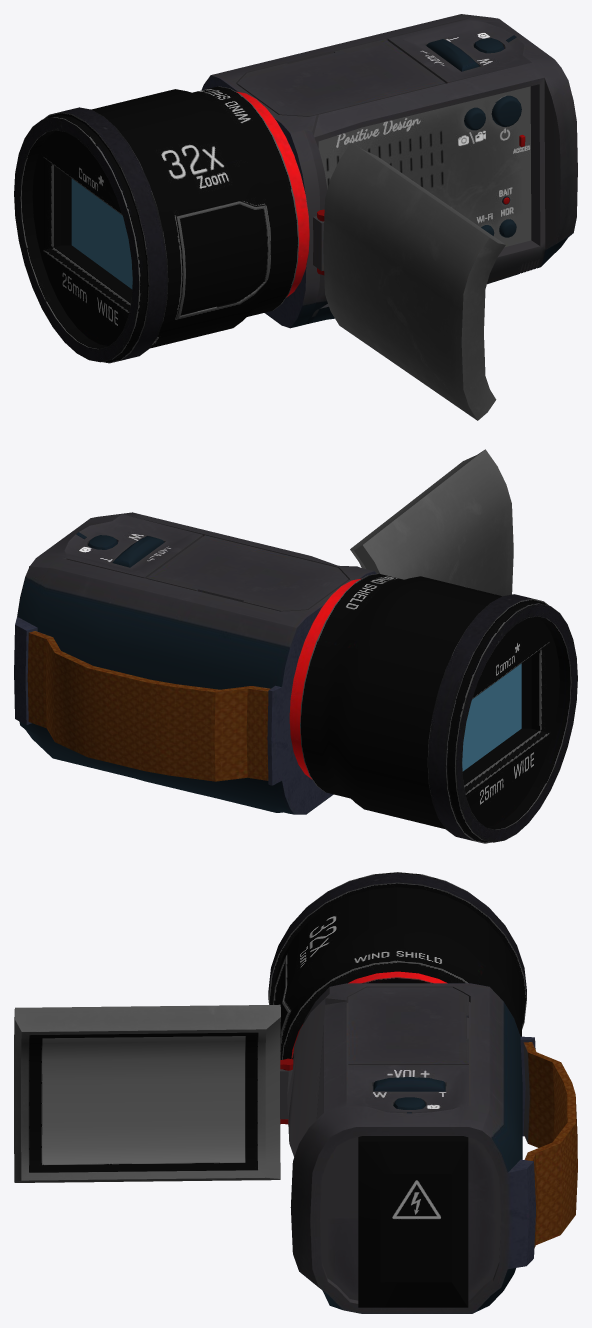
The model's file is camera.fbx.
3 views of the same model, one above another, from view 1: azimuth 30°, elevation 25°; view 2: azimuth 150°, elevation 25°; view 3: azimuth 270°, elevation 25° (orthographic). The views are drawn at different scales.
Visible parts, largest first — view 1: Circle, Circle.003, Circle.001, Circle.006, Circle.002; view 2: Circle.003, Circle, Circle.001, Circle.006; view 3: Circle.003, Circle.001, Circle, Circle.005.
Part boxes in pixels (x1=…): Circle: x1=14, y1=86, x2=309, y2=363; Circle.003: x1=201, y1=14, x2=577, y2=328; Circle.001: x1=317, y1=142, x2=505, y2=420; Circle.006: x1=71, y1=178, x2=132, y2=289; Circle.002: x1=464, y1=95, x2=525, y2=204; Circle.003: x1=14, y1=512, x2=376, y2=814; Circle: x1=289, y1=573, x2=577, y2=843; Circle.001: x1=350, y1=449, x2=513, y2=596; Circle.006: x1=462, y1=663, x2=521, y2=771; Circle.003: x1=280, y1=983, x2=577, y2=1313; Circle.001: x1=14, y1=1004, x2=293, y2=1182; Circle: x1=268, y1=872, x2=526, y2=1059; Circle.005: x1=358, y1=1136, x2=468, y2=1307.
Size of the model in its own units: 145 by 69.07 by 149.
Materials: 8 (8 with a texture image).
